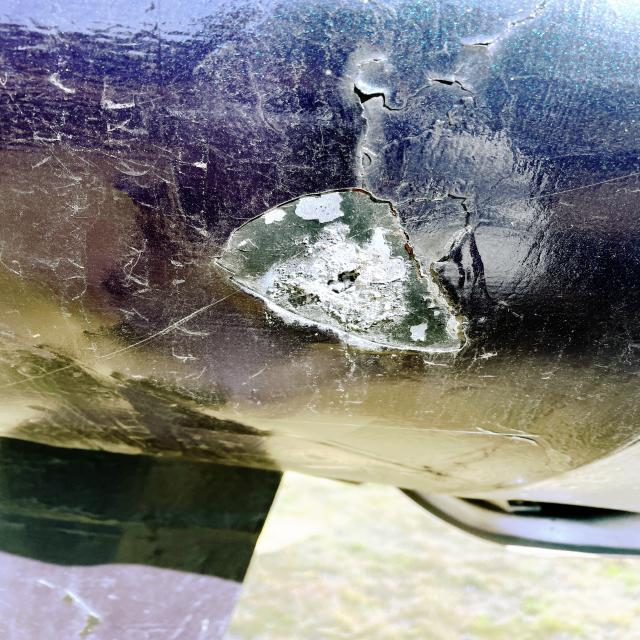crack: (354, 77, 477, 115), (450, 16, 547, 57)
dent: (195, 180, 498, 367)
